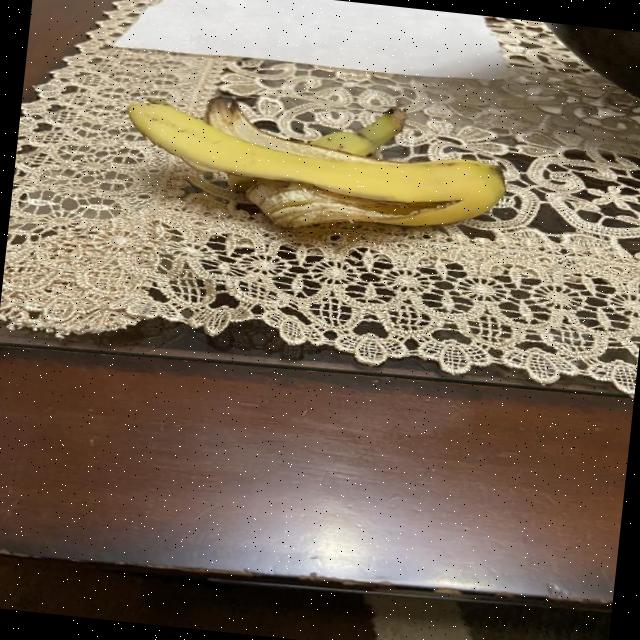banana-peel: (116, 80, 512, 250)
